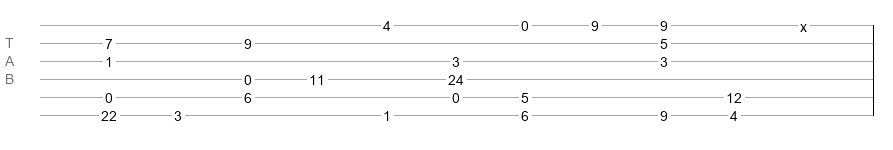0: (105, 90, 113, 100), (244, 72, 252, 82), (452, 90, 460, 100), (521, 18, 529, 28)
1: (105, 54, 113, 64), (383, 108, 391, 118)
11: (309, 72, 325, 82)
12: (726, 90, 742, 100)
22: (101, 108, 117, 118)
24: (448, 72, 464, 82)
3: (174, 108, 182, 118), (452, 54, 460, 64), (660, 54, 668, 64)
4: (383, 18, 391, 28), (730, 108, 738, 118)
5: (521, 90, 529, 100), (660, 36, 668, 46)
6: (244, 90, 252, 100), (521, 108, 529, 118)
7: (105, 36, 113, 46)
9: (244, 36, 252, 46), (591, 18, 599, 28), (660, 18, 668, 28), (660, 108, 668, 118)
x: (800, 19, 807, 27)
